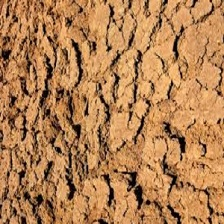clay_soil: (5, 27, 219, 192)
